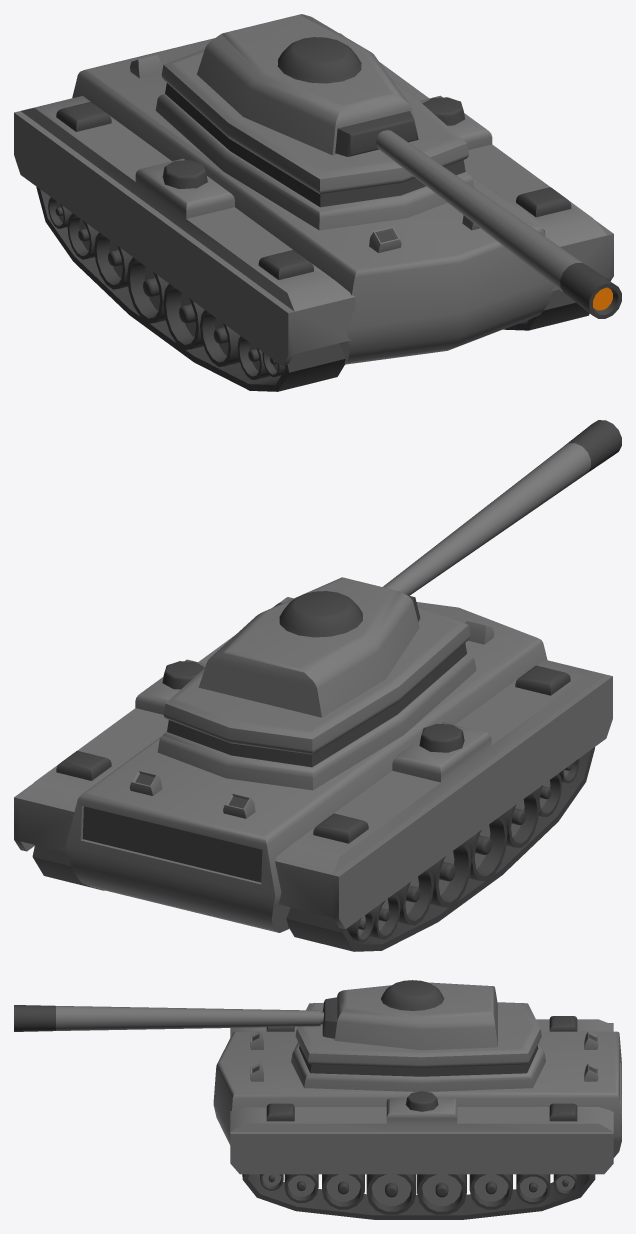
File: Tank_2.fbx
3 renders of one model, top to bottom at view 1: azimuth 30°, elevation 25°; view 2: azimuth 150°, elevation 25°; view 3: azimuth 270°, elevation 25°, orthographic. The views are drawn at different scales.
Visible parts, largest first — view 1: Tank_2; view 2: Tank_2; view 3: Tank_2.
Part boxes in pixels (bbox=[...]): Tank_2: bbox=[14, 14, 621, 391]; Tank_2: bbox=[14, 420, 621, 951]; Tank_2: bbox=[14, 980, 621, 1219].
Bounding box in the file's own units: 0.5206 × 0.3896 × 1.21.
